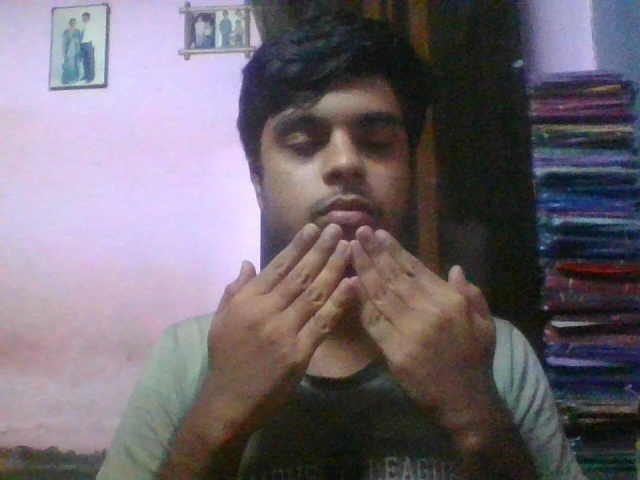Thank You: (205, 216, 504, 423)
